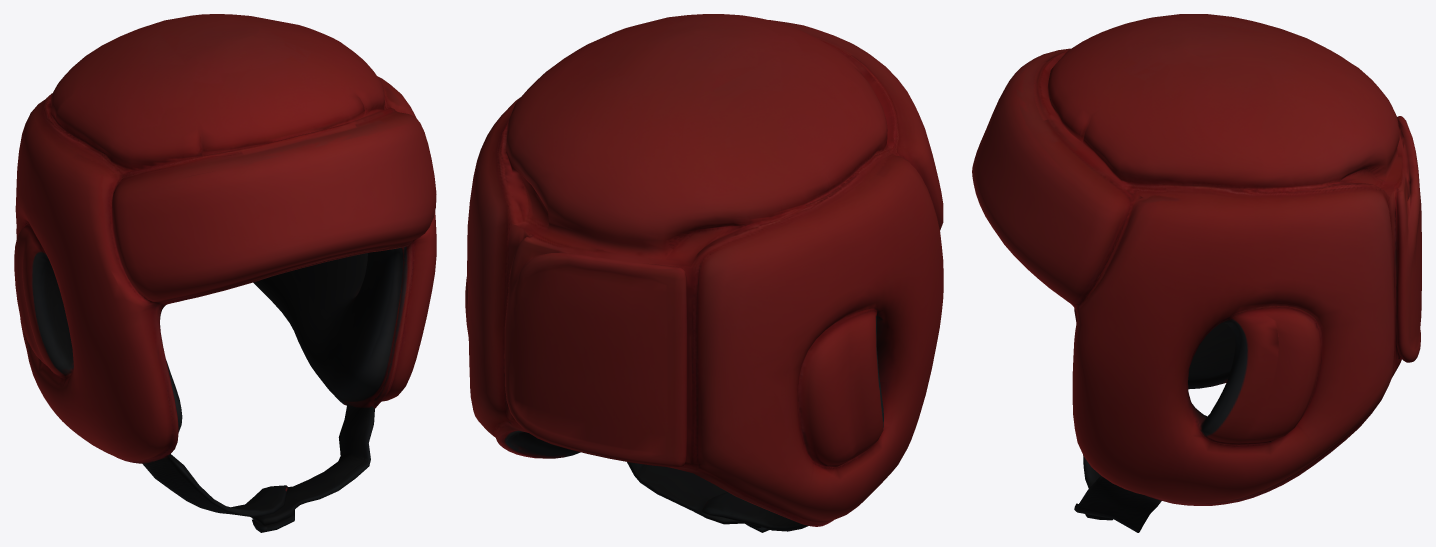
The model's file is boxing_headgear.glb.
The picture shows the model from 3 angles, left to right: view 1: azimuth 30°, elevation 25°; view 2: azimuth 150°, elevation 25°; view 3: azimuth 270°, elevation 25°; orthographic projection. The views are drawn at different scales.
Visible parts, largest first — view 1: material_0; view 2: material_0; view 3: material_0.
Boxes of the visible parts, x1,y1,x2,y2 form: material_0: (14,14,436,532); material_0: (465,14,943,532); material_0: (972,14,1421,532).
Bounding box in the file's own units: 0.2297 × 0.2852 × 0.2415.
1 material, 1 textured.
